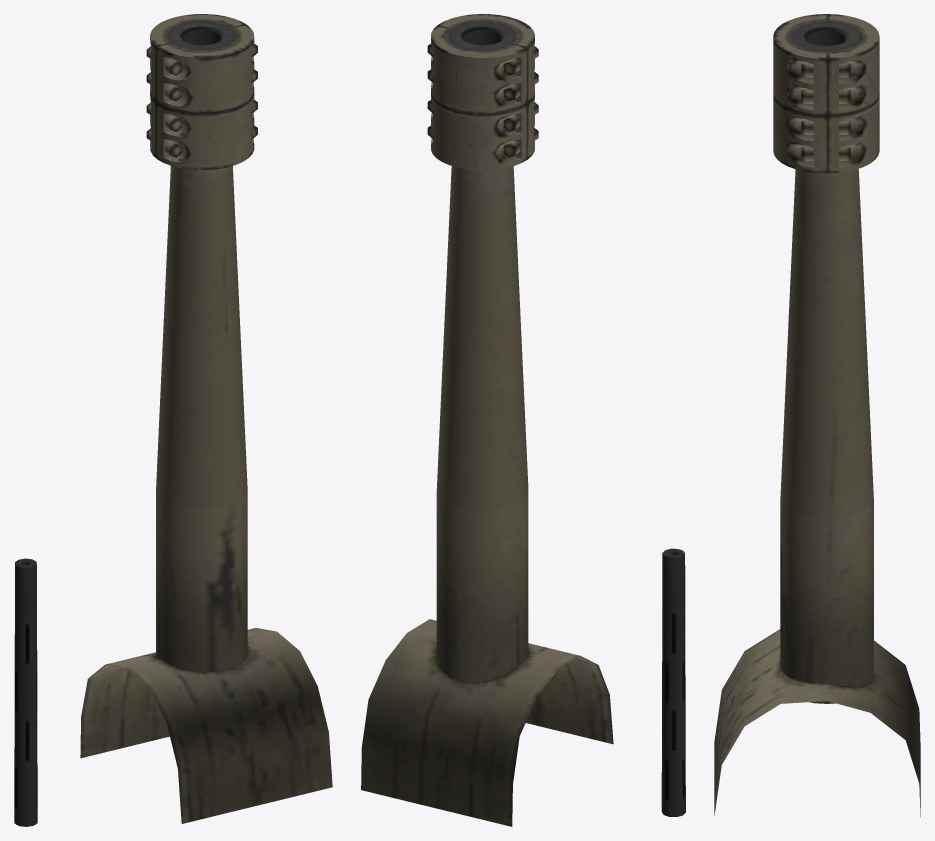
Rendered from Gun_01.glb.
3 renders of one model, left to right at view 1: azimuth 30°, elevation 25°; view 2: azimuth 150°, elevation 25°; view 3: azimuth 270°, elevation 25°, orthographic. The views are drawn at different scales.
Visible parts, largest first — view 1: set_0_group_0; view 2: set_0_group_0; view 3: set_0_group_0.
Boxes of the visible parts, box(x1,y1,x2,y2) form: set_0_group_0: box(14, 14, 332, 826); set_0_group_0: box(361, 14, 685, 826); set_0_group_0: box(714, 14, 920, 817).
Bounding box in the file's own units: 0.6021 × 1.58 × 0.3921.
1 material, 1 textured.
